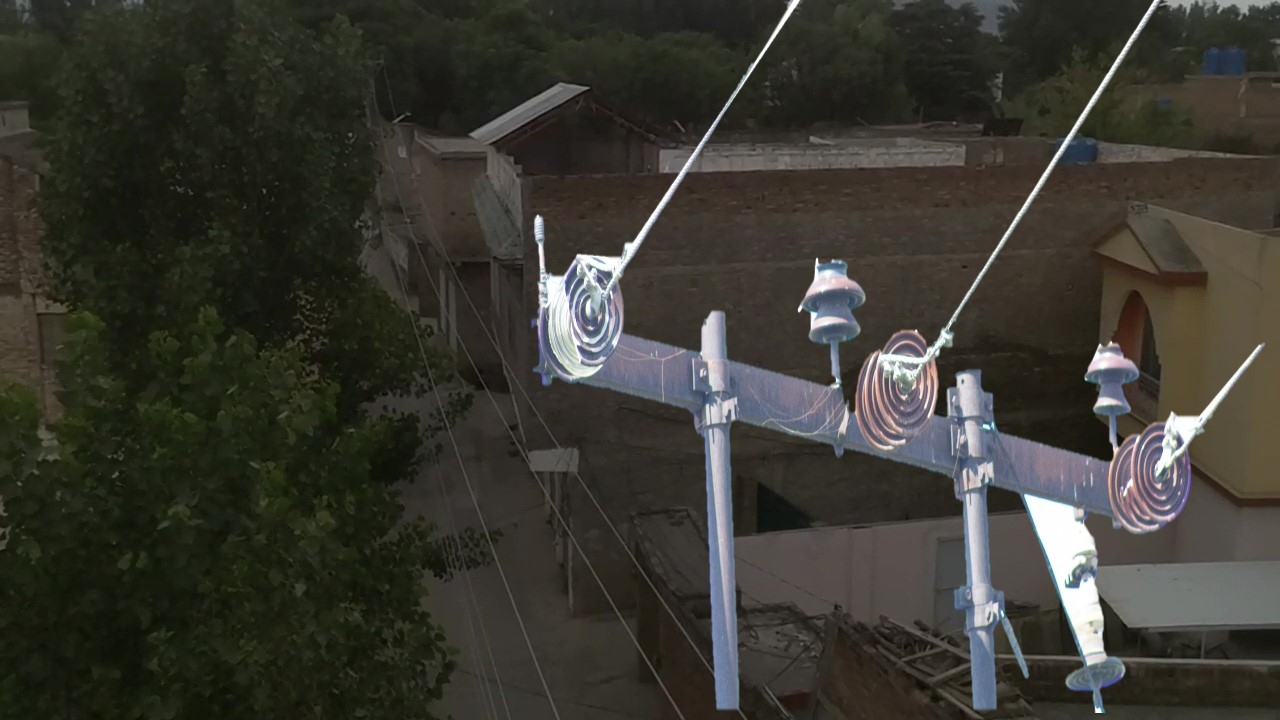defect_disc: (558, 249, 631, 364)
insulator_disc: (866, 322, 942, 439), (1131, 420, 1194, 522)
